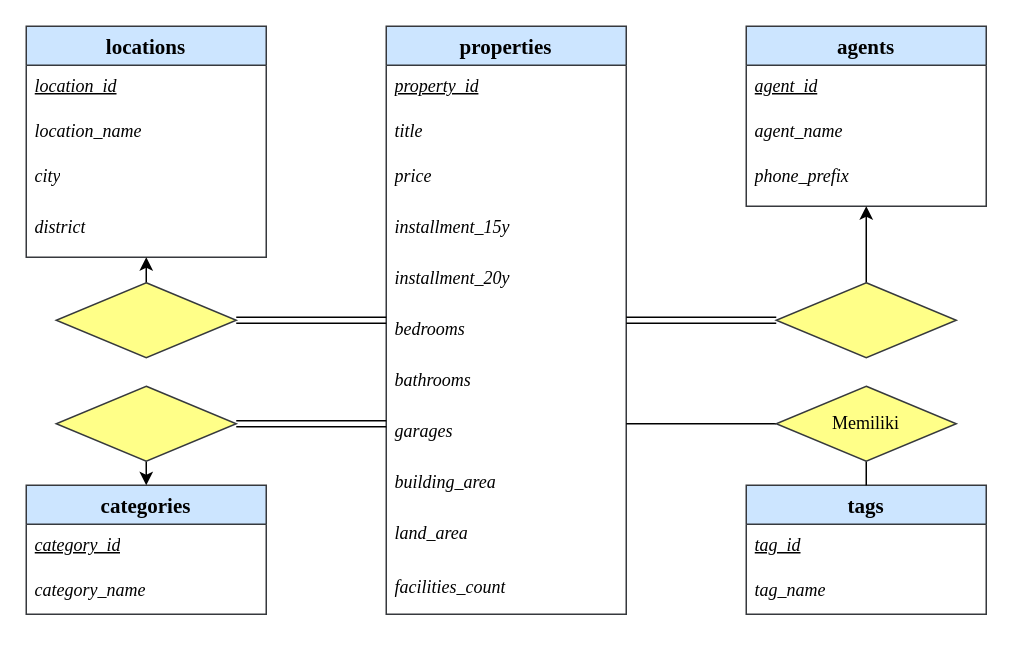
This 1013x645 diagram has some shape labels left out. The centre of each missing label's shape, as x and y in pixels:
"Berlokasi" goes at point 145,319.
"Menjual" goes at point 865,319.
"Termasuk" goes at point 145,423.
